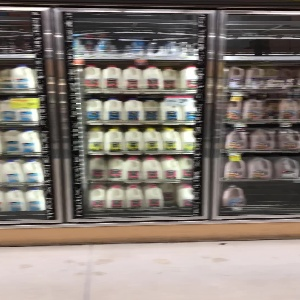void: (248, 182, 300, 214)
